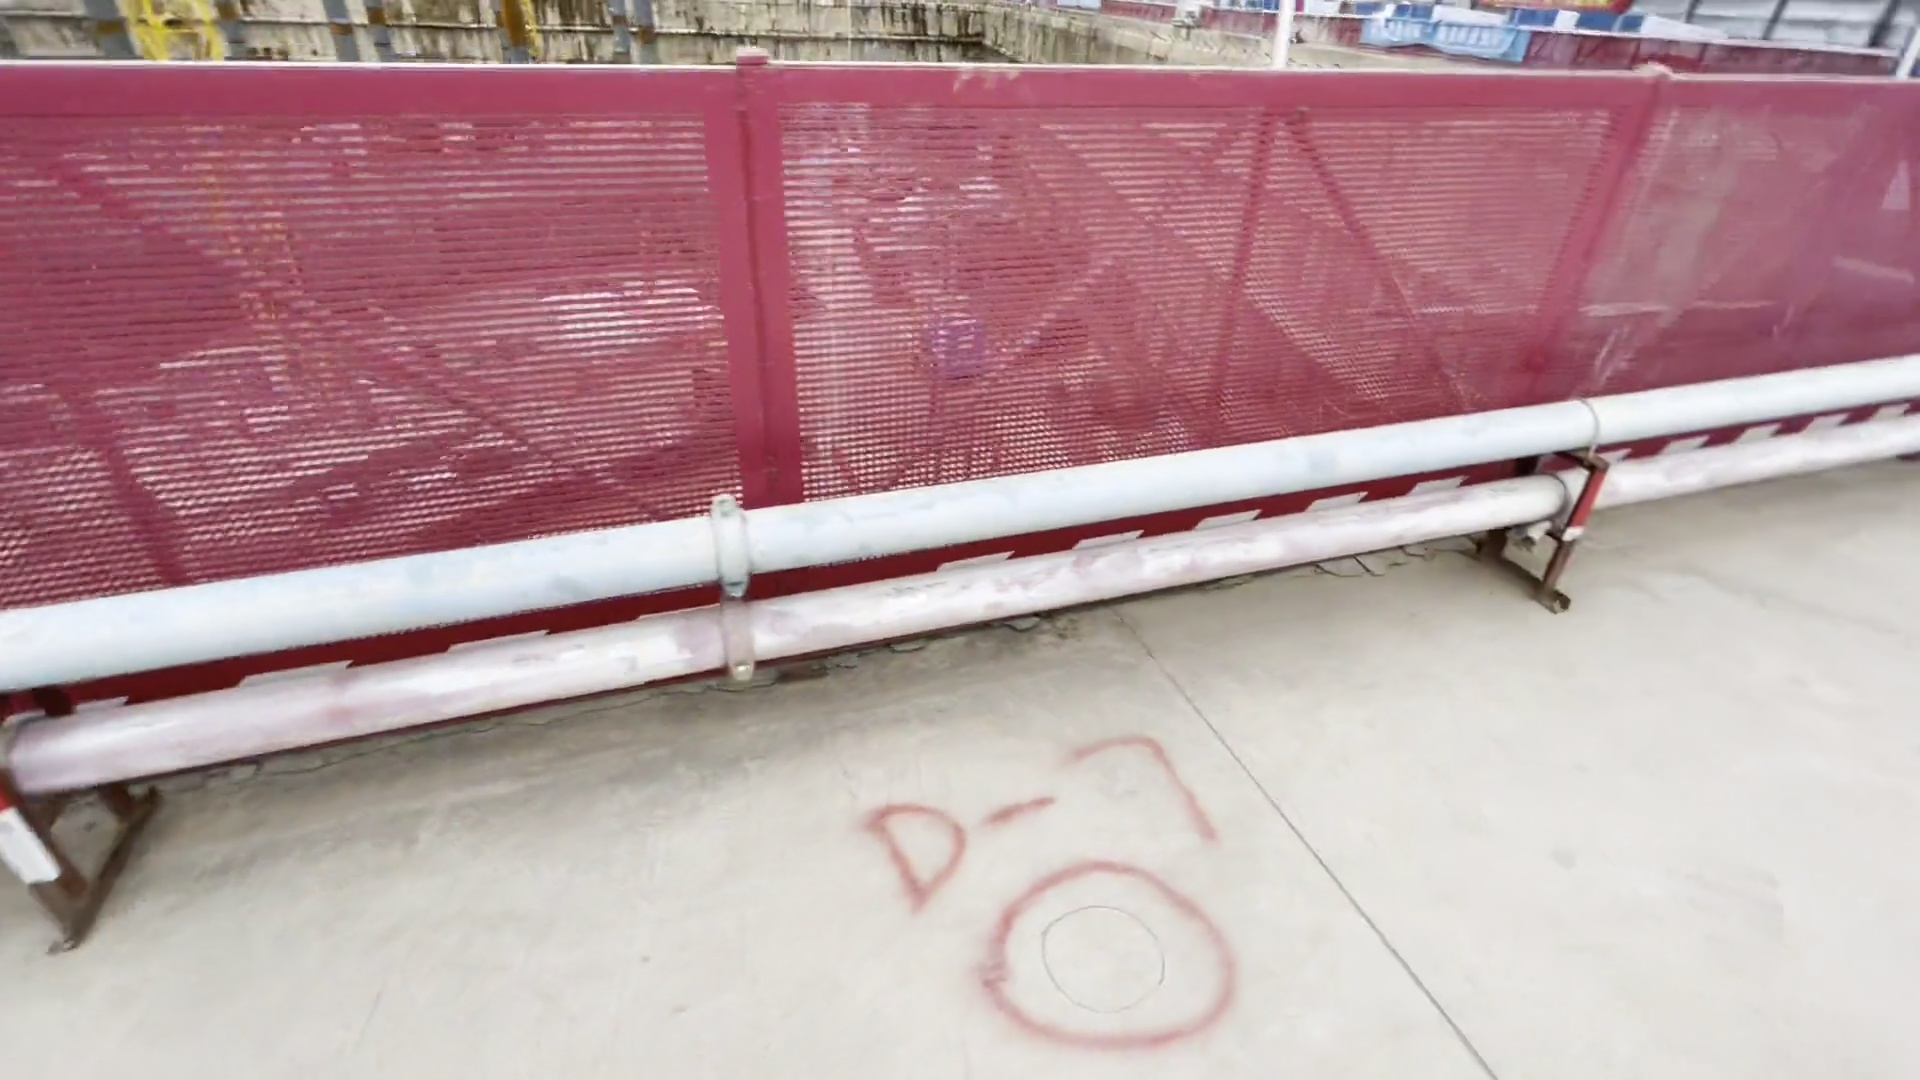fence: (1, 55, 1894, 691)
